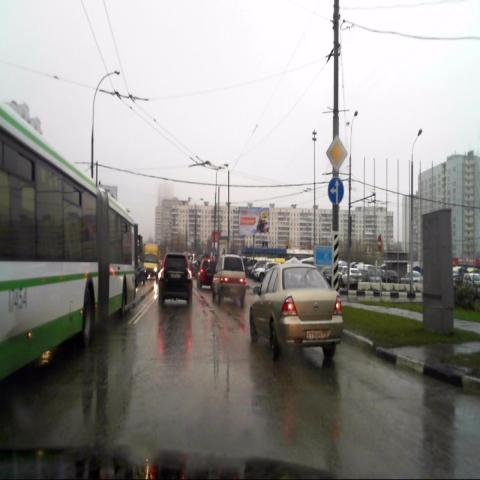4_1_5: (327, 177, 344, 203)
